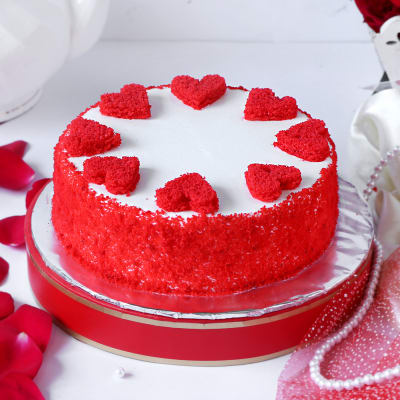red_velvet_cake: (31, 60, 351, 345)
